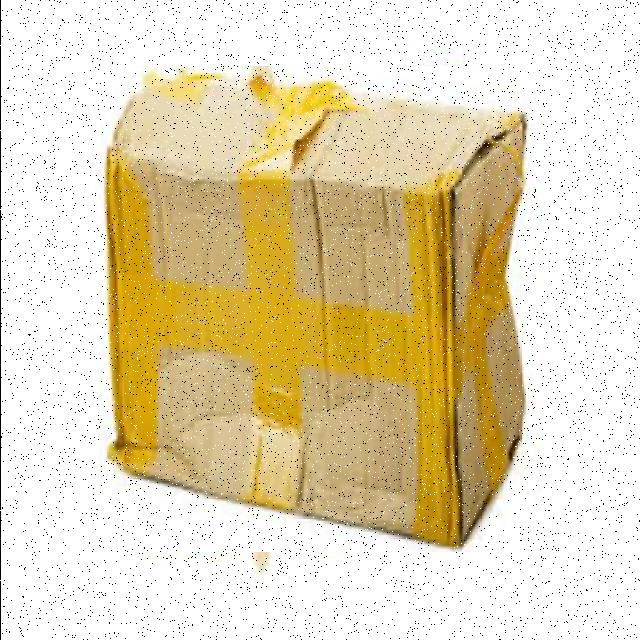normal: (100, 66, 534, 552)
